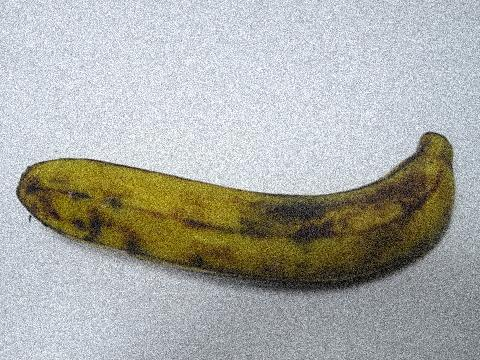overripe: (10, 118, 476, 302)
